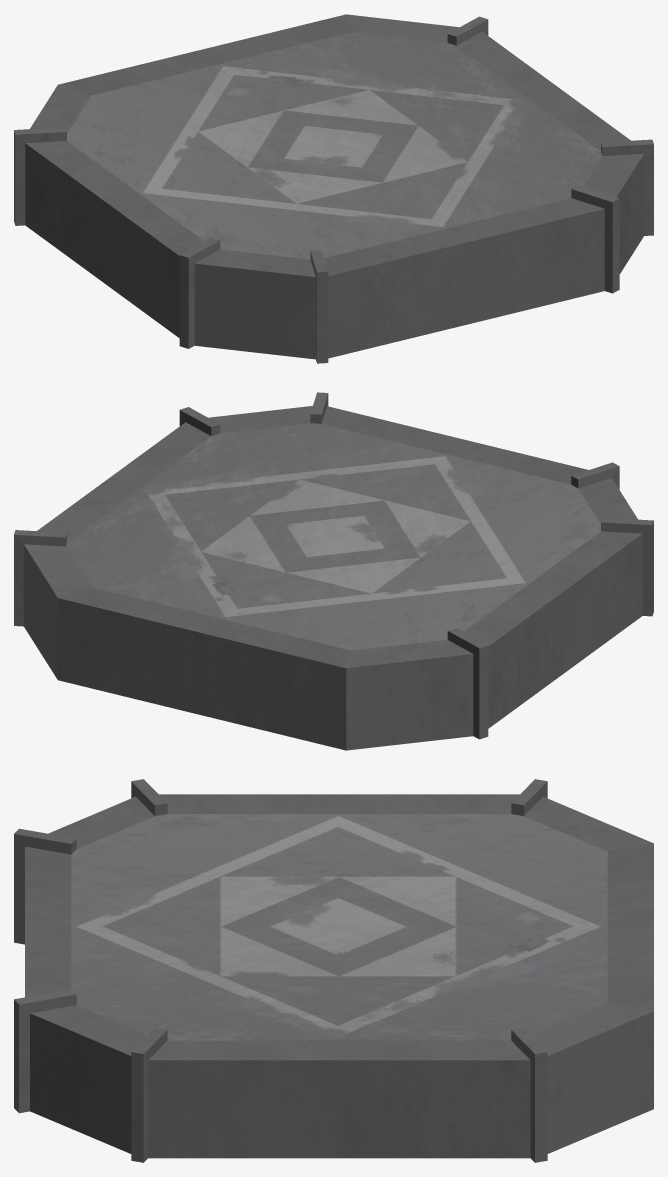
File: suta-to.fbx
The picture shows the model from 3 angles, top to bottom: view 1: azimuth 30°, elevation 25°; view 2: azimuth 150°, elevation 25°; view 3: azimuth 270°, elevation 25°; orthographic projection. The views are drawn at different scales.
Visible parts, largest first — view 1: pCube1; view 2: pCube1; view 3: pCube1.
Boxes of the visible parts, <box> form: pCube1: <box>14,14,653,363</box>; pCube1: <box>14,392,653,750</box>; pCube1: <box>14,779,653,1162</box>.
Size of the model in its own units: 1.65 by 0.3042 by 1.62.
